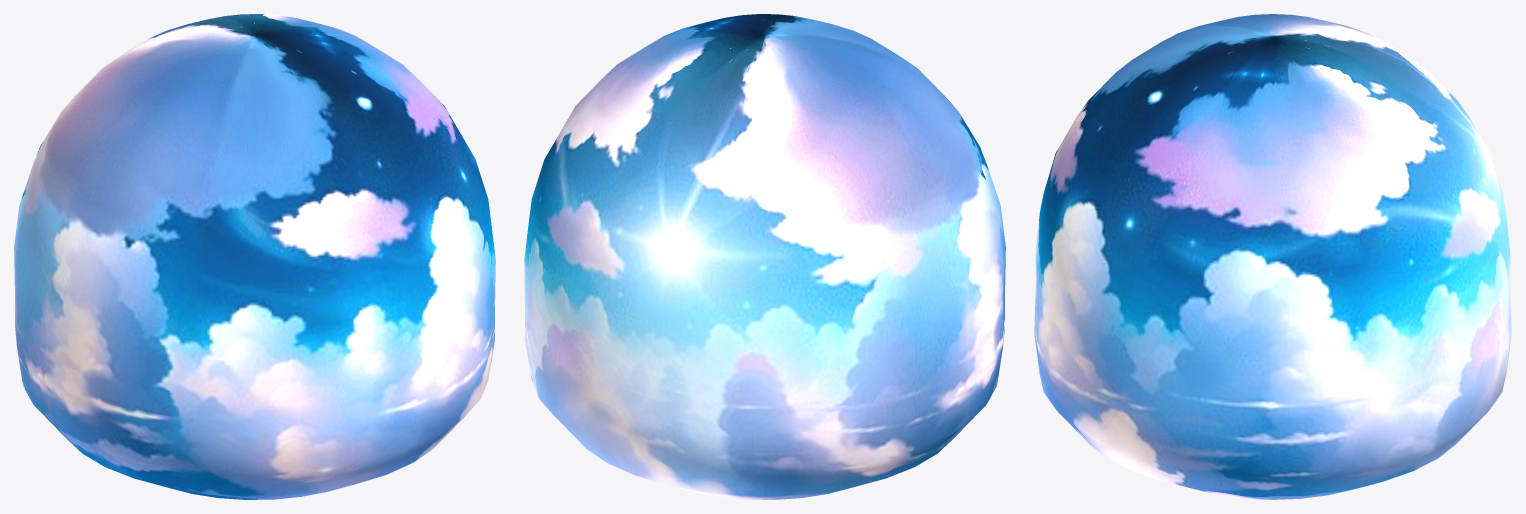
Rendered from skybox.glb.
3 views of the same model, side by side, from view 1: azimuth 30°, elevation 25°; view 2: azimuth 150°, elevation 25°; view 3: azimuth 270°, elevation 25° (orthographic).
Visible parts, largest first — view 1: mainSky; view 2: mainSky; view 3: mainSky.
Part boxes in pixels (x1,y1,x2,y2): mainSky: (14, 14, 495, 499); mainSky: (524, 14, 1005, 499); mainSky: (1034, 14, 1511, 499).
Bounding box in the file's own units: 127 × 128 × 127.
Materials: 1 (1 with a texture image).
